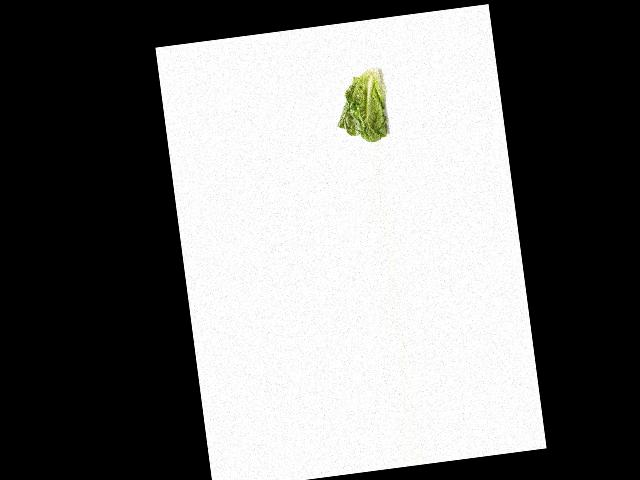lettuce: (329, 62, 401, 146)
